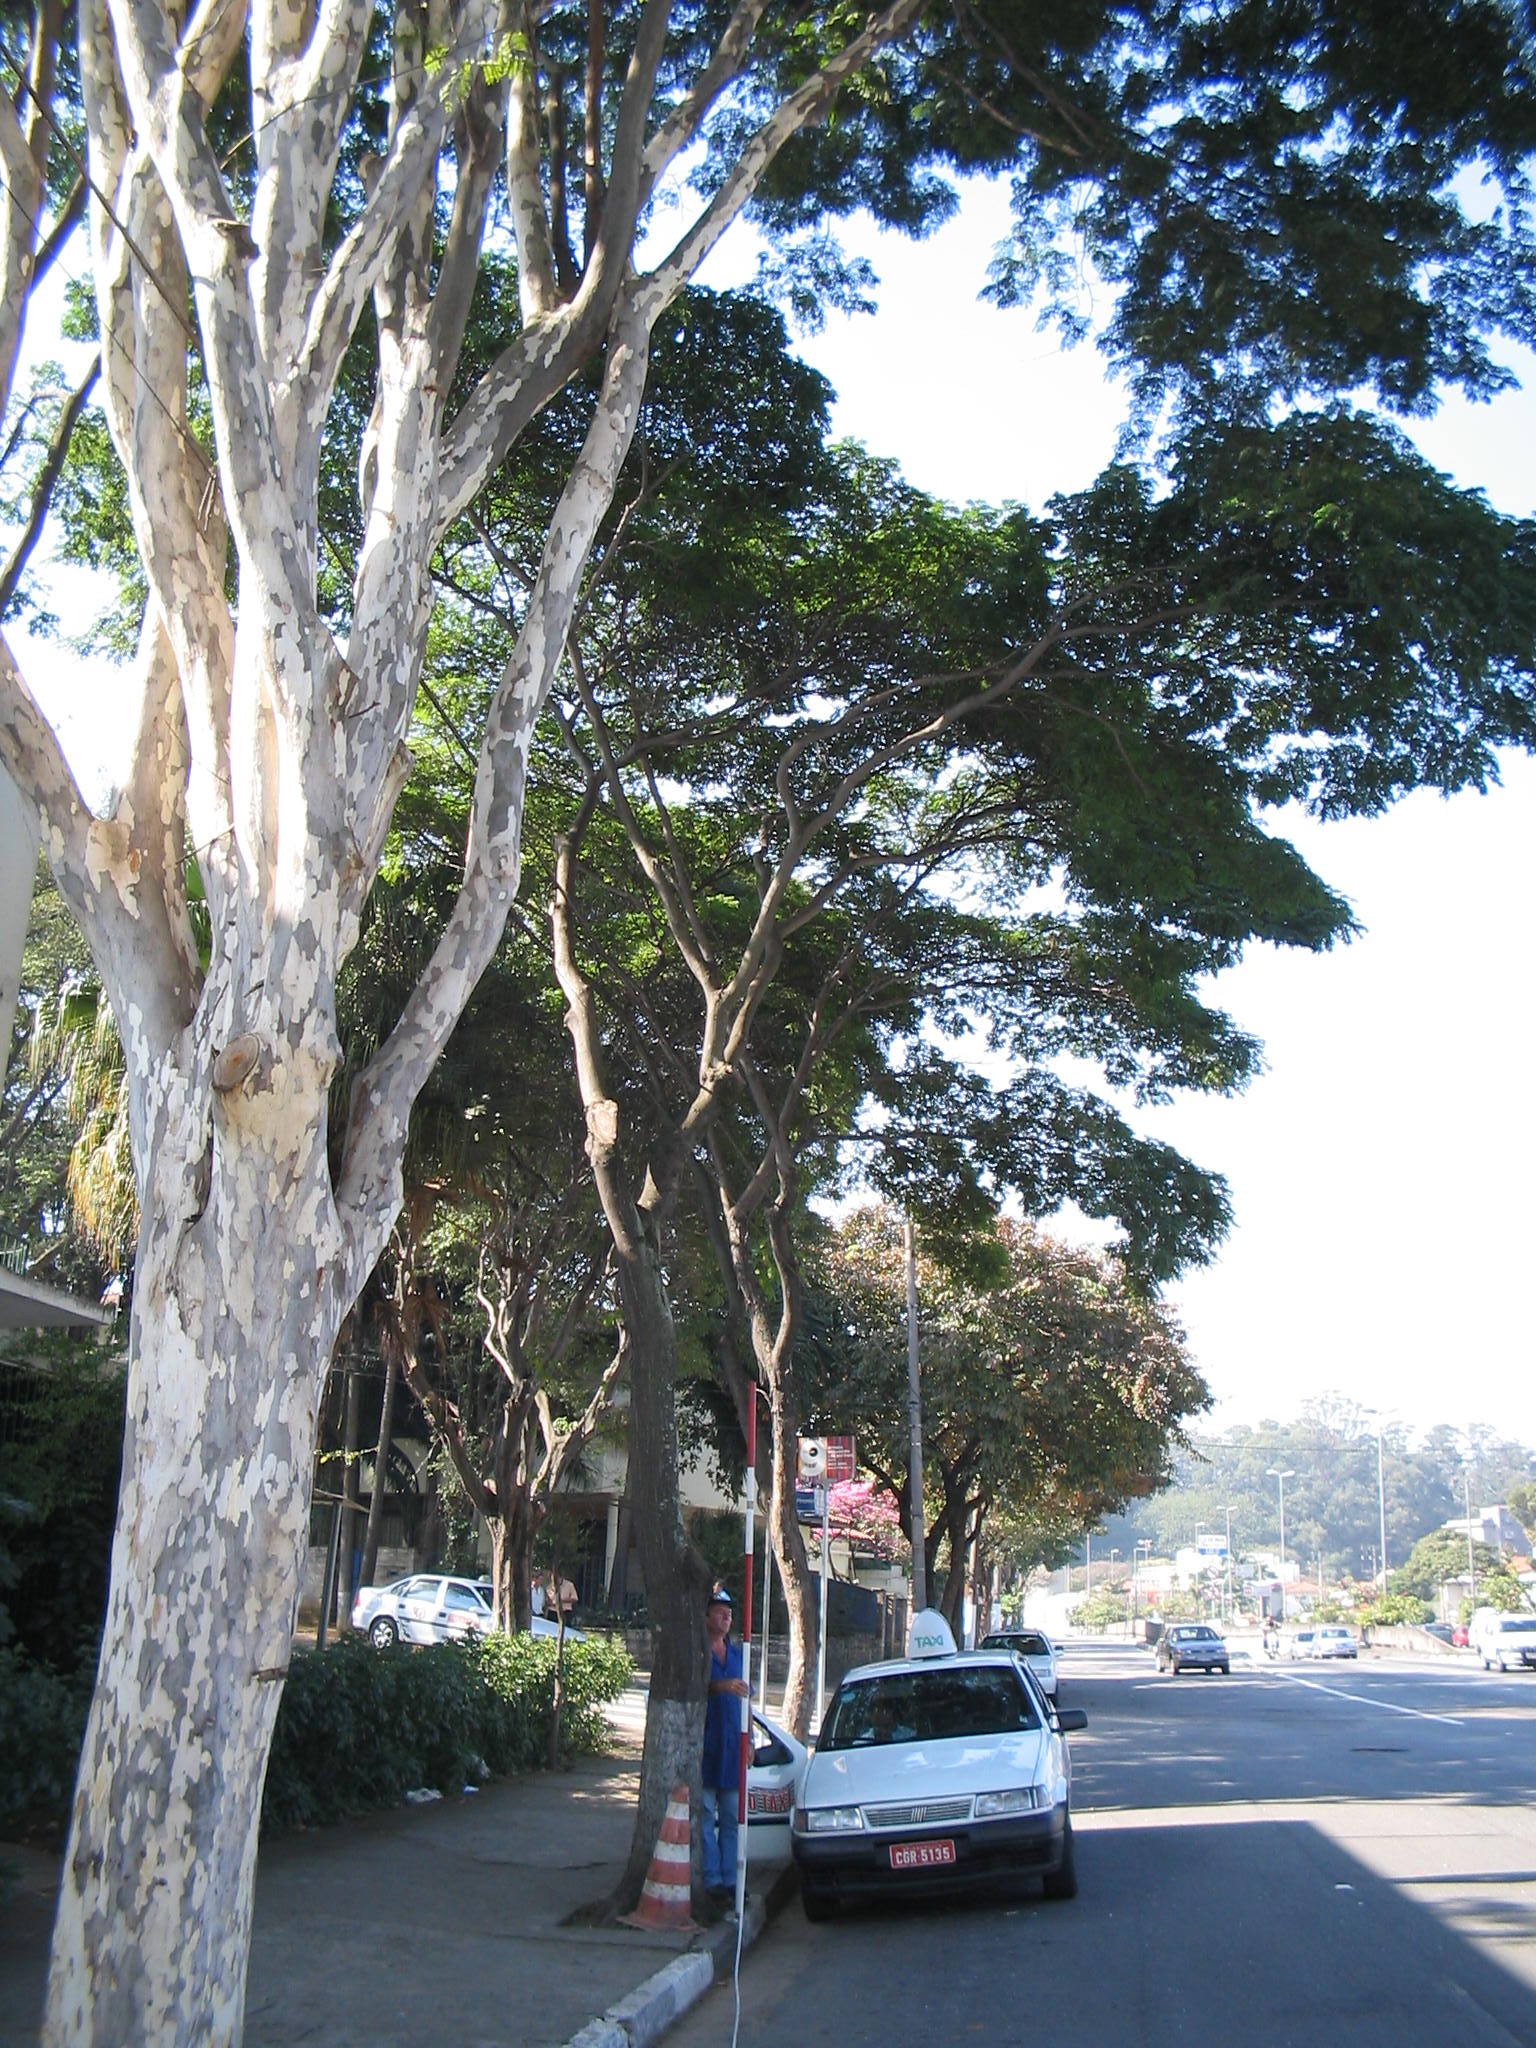stem: (578, 1240, 739, 1908)
stick: (720, 1379, 781, 1913)
tree: (6, 216, 1533, 1911)
